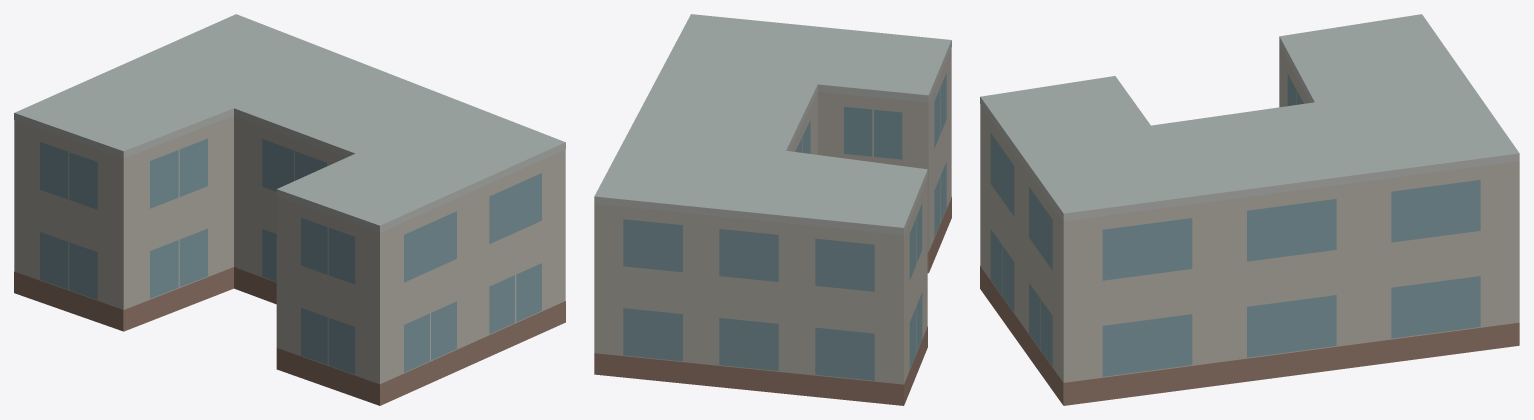
The model's file is survey-upis-32767196.glb.
3 renders of one model, left to right at view 1: azimuth 30°, elevation 25°; view 2: azimuth 150°, elevation 25°; view 3: azimuth 270°, elevation 25°, orthographic. The views are drawn at different scales.
Parts seen in each view (by area): view 1: survey-upis-32767196.tmp; view 2: survey-upis-32767196.tmp; view 3: survey-upis-32767196.tmp.
Boxes of the visible parts, x1=… form: survey-upis-32767196.tmp: x1=14, y1=14, x2=565, y2=405; survey-upis-32767196.tmp: x1=594, y1=14, x2=951, y2=405; survey-upis-32767196.tmp: x1=980, y1=14, x2=1519, y2=405.
Size of the model in its own units: 13.6 by 6.1 by 15.53.
